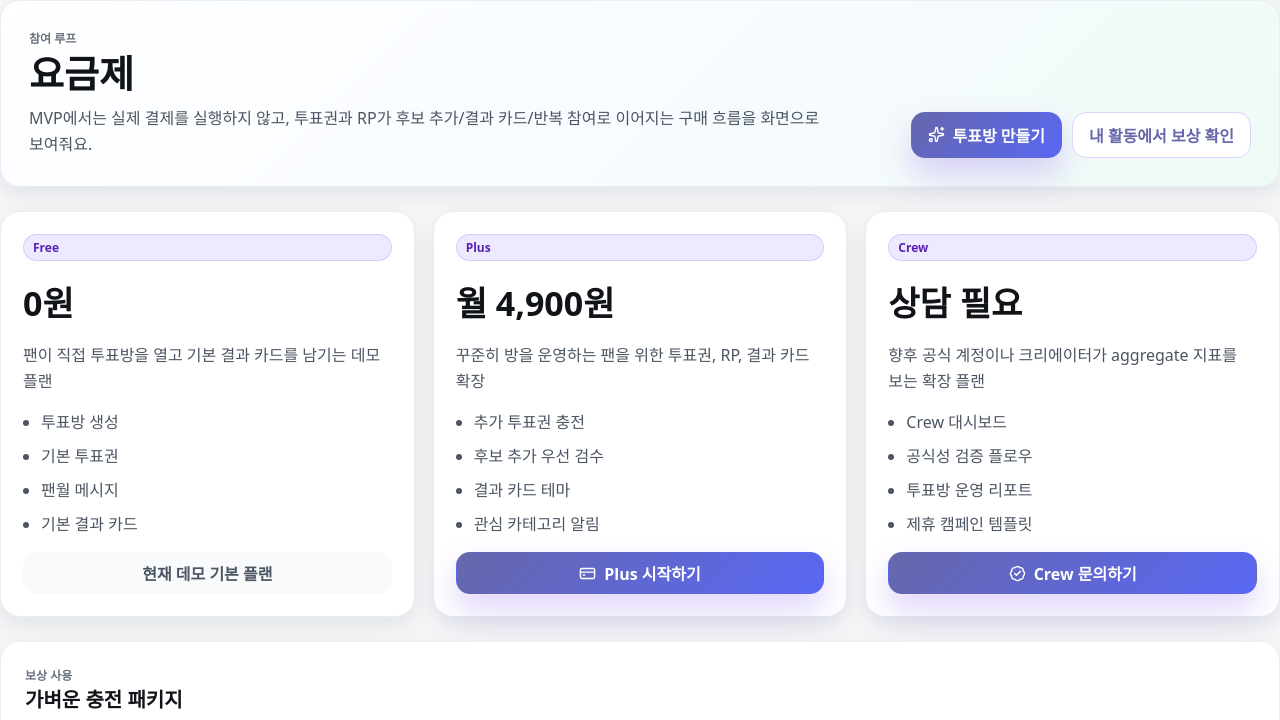
PricingPage › shows a checkout command intent preview for a paid Plus selection
This screenshot has width=1280, height=720.
Click the button "Plus 시작하기" at (640, 573), box [456,552,824,594]
(page scrolled)
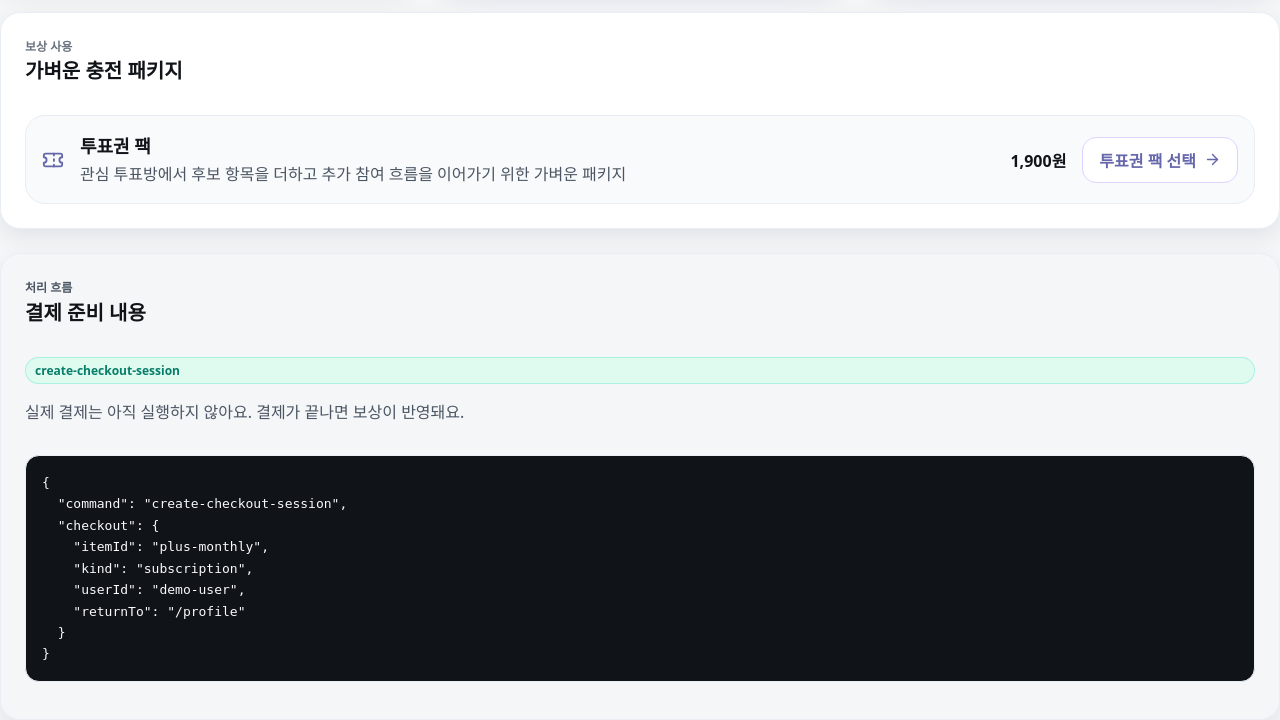
Check: the text "create-checkout-session" is shown, box [25,357,1255,384]
Check: the text "plus-monthly" is shown, box [42,475,347,661]
Check: the text "실제 결제는 아직 실행하지 않아요. 결제가 끝나면 보상이 반영돼요." is shown, box [25,401,464,423]
